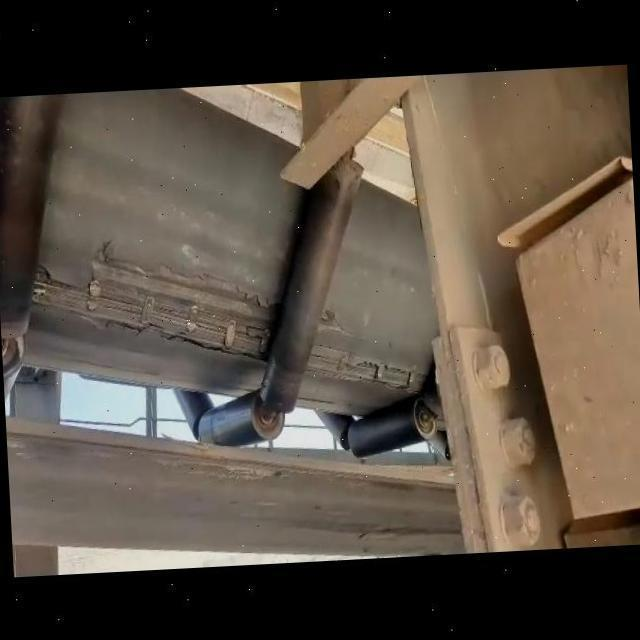Tear: (28, 237, 284, 369), (304, 300, 431, 403)
